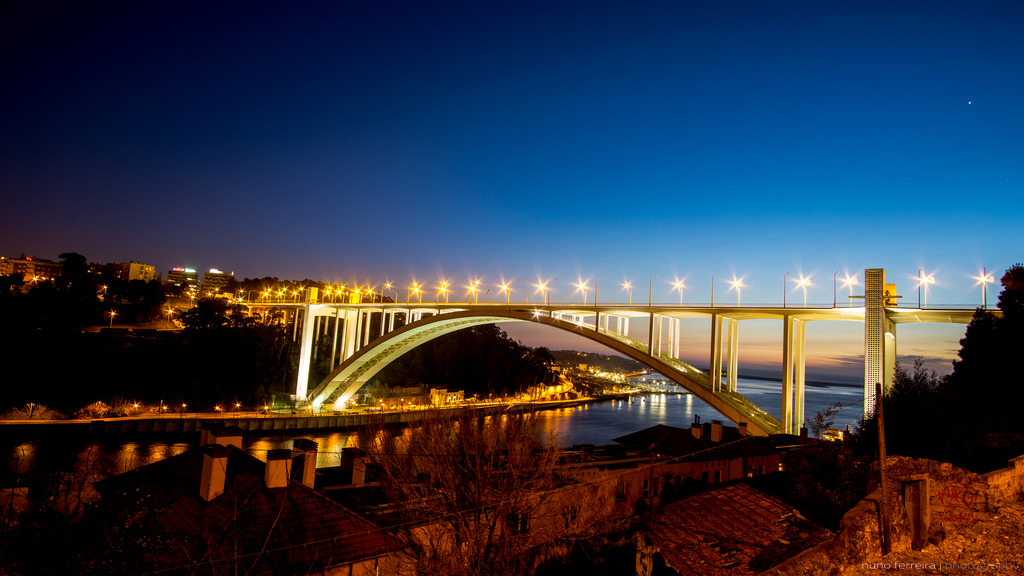arrabida: (225, 265, 1004, 439)
